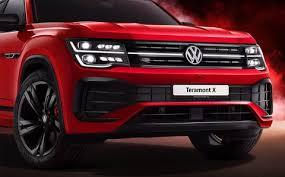volkswagen: (185, 44, 203, 67)
